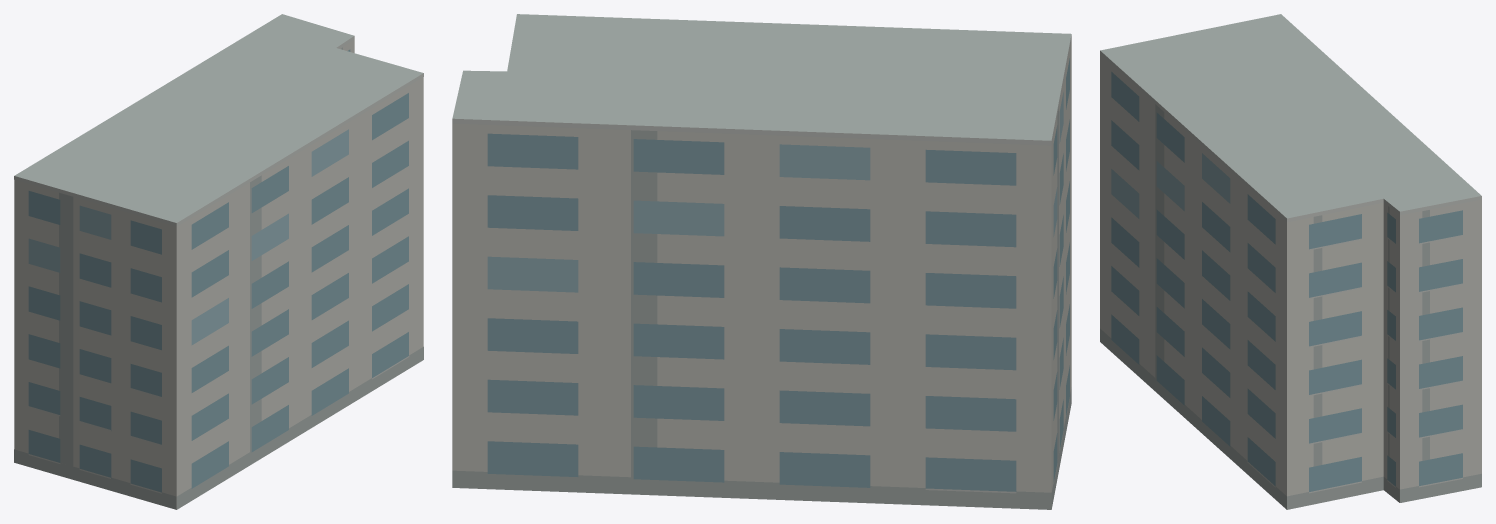
The model's file is survey-upis-32800754.glb.
3 renders of one model, left to right at view 1: azimuth 30°, elevation 25°; view 2: azimuth 150°, elevation 25°; view 3: azimuth 270°, elevation 25°, orthographic. The views are drawn at different scales.
Visible parts, largest first — view 1: survey-upis-32800754.tmp; view 2: survey-upis-32800754.tmp; view 3: survey-upis-32800754.tmp.
Boxes of the visible parts, box(x1,y1,x2,y2) form: survey-upis-32800754.tmp: box(14, 14, 423, 509); survey-upis-32800754.tmp: box(452, 14, 1071, 509); survey-upis-32800754.tmp: box(1100, 14, 1481, 509).
Size of the model in its own units: 28.01 by 18.6 by 22.1.
